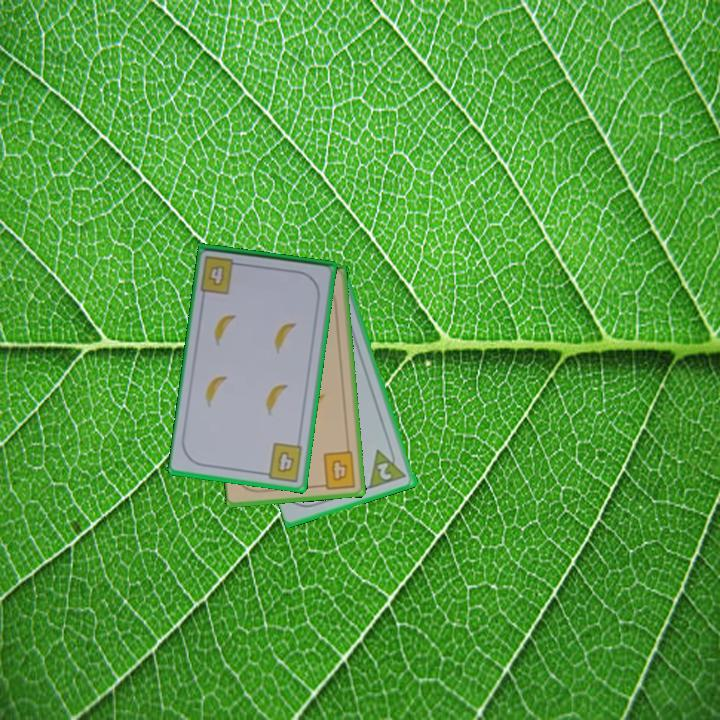2p: (374, 459, 395, 483)
4b: (197, 252, 246, 297), (259, 439, 305, 485), (316, 448, 358, 492)
